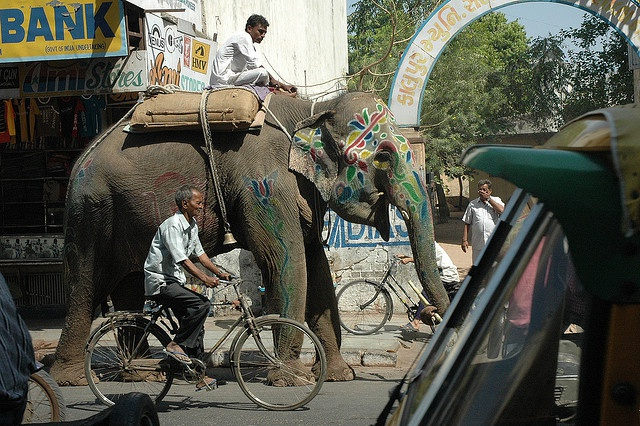non-vehicle: (88, 276, 325, 410), (336, 257, 469, 336), (21, 365, 64, 424)
